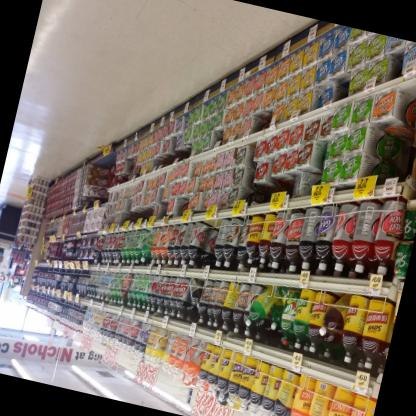empty_space: (91, 152, 118, 170)
